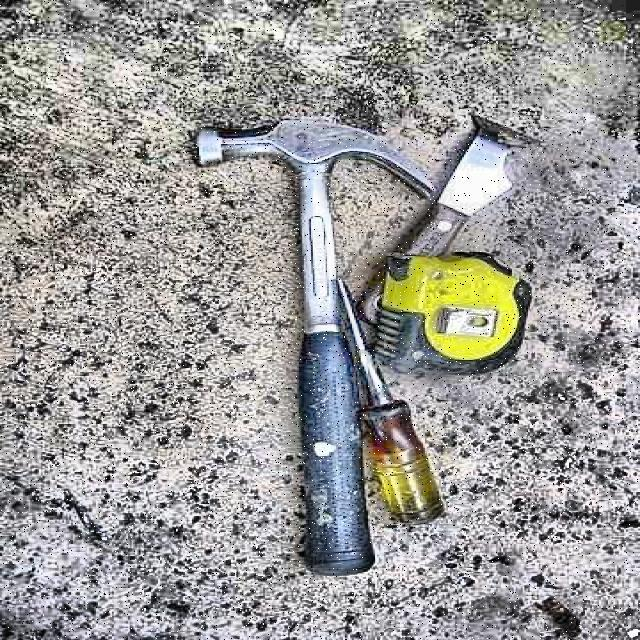hammer: (193, 117, 401, 578)
